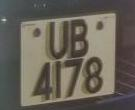1: (51, 60, 67, 102)
4: (32, 60, 55, 105)
7: (61, 58, 84, 101)
8: (82, 54, 106, 98)
B: (69, 15, 91, 60)
U: (46, 17, 70, 62)
